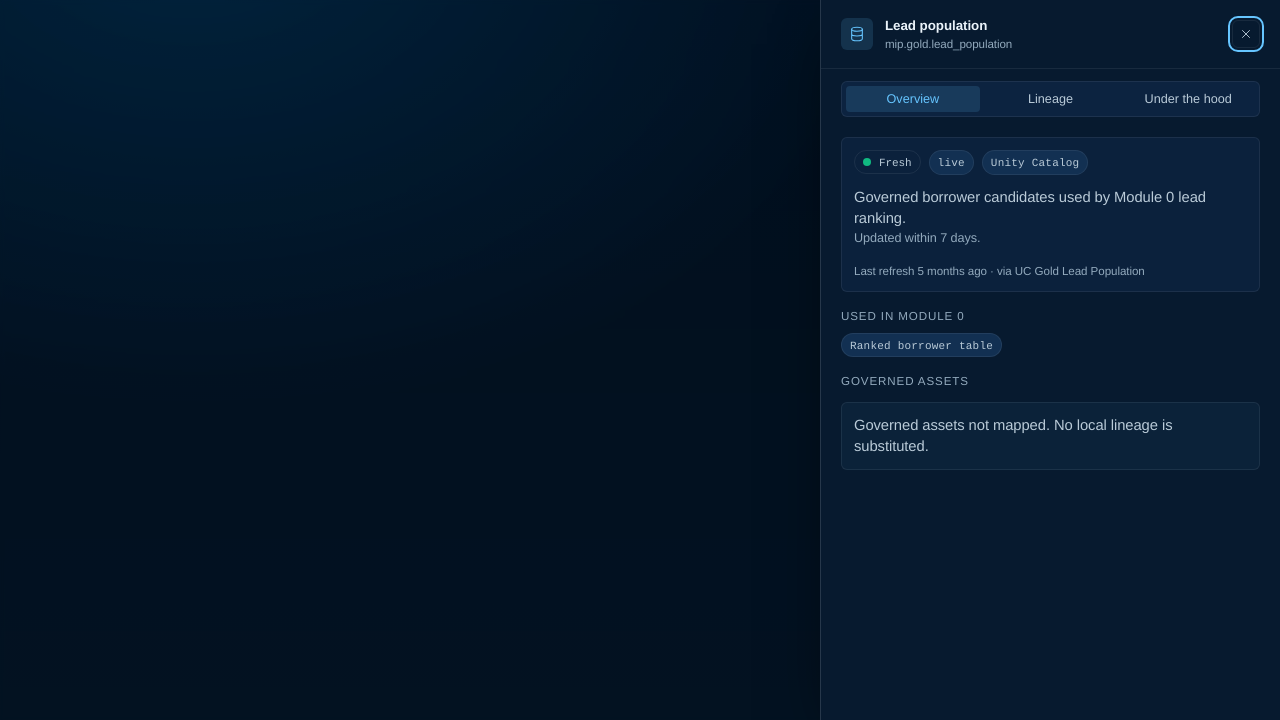
it: EvidenceDrawer admin-only actions › never offers a non-admin the asset-detail action, and keeps the proof usable
The image size is (1280, 720).
Click the tab with id "drawer-tab-lineage" at [1051, 99], box [984,86,1117,112]
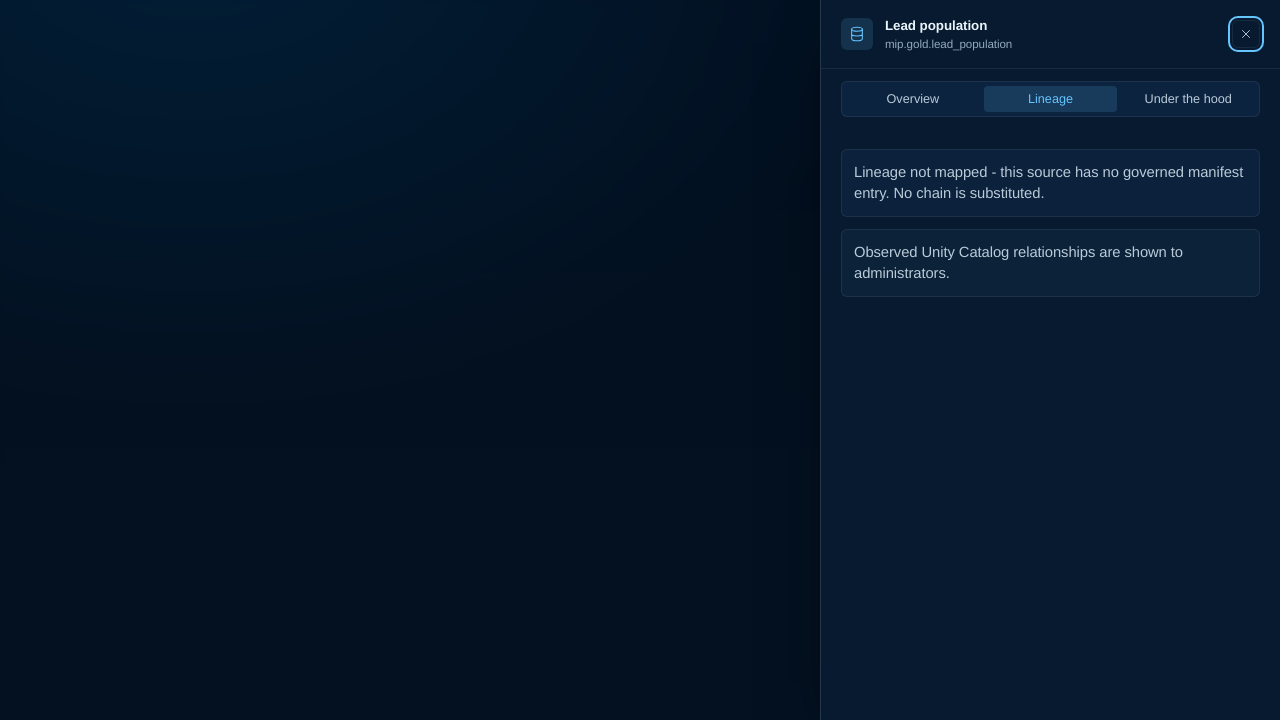
Now the panel with id "drawer-panel-lineage" is shown, box [841,149,1260,297]
